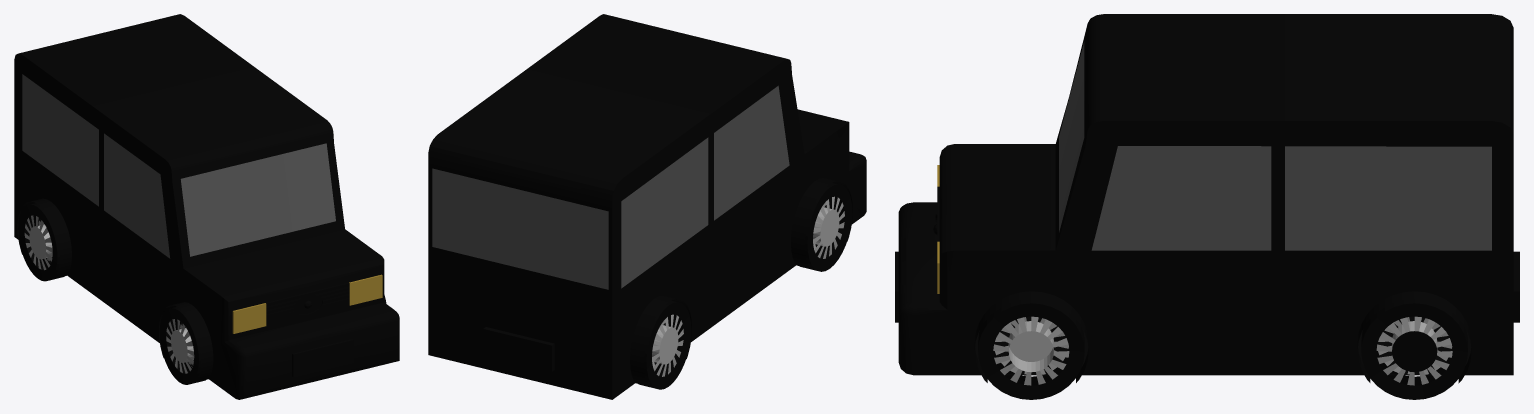
The model's file is NPCcar1_black.fbx.
3 views of the same model, side by side, from view 1: azimuth 30°, elevation 25°; view 2: azimuth 150°, elevation 25°; view 3: azimuth 270°, elevation 25° (orthographic). The views are drawn at different scales.
Visible parts, largest first — view 1: car01_black; view 2: car01_black; view 3: car01_black.
Part boxes in pixels (x1,y1,x2,y2): car01_black: (14,14,399,399); car01_black: (428,14,866,399); car01_black: (895,14,1519,399).
Size of the model in its own units: 54.09 by 54.89 by 115.
